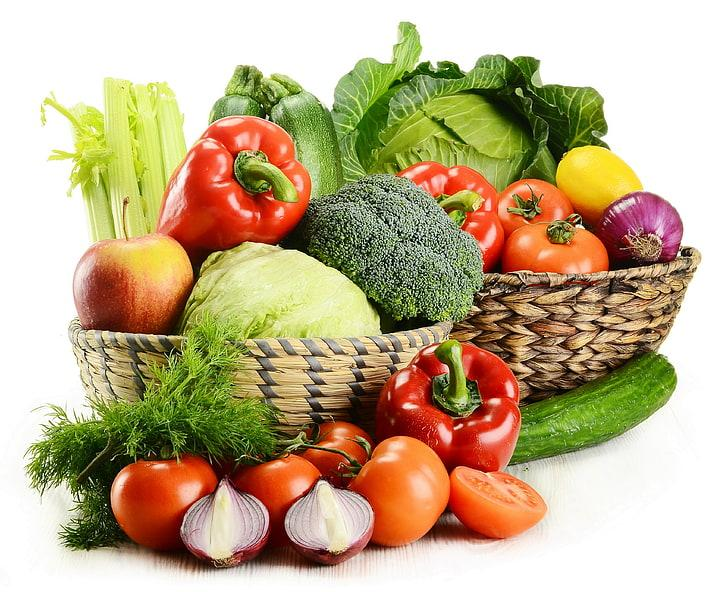apple: (74, 231, 197, 335)
bell pepper: (127, 75, 323, 248)
broccoli: (304, 176, 487, 332)
onion: (181, 459, 393, 577)
tomato: (420, 150, 628, 287)
